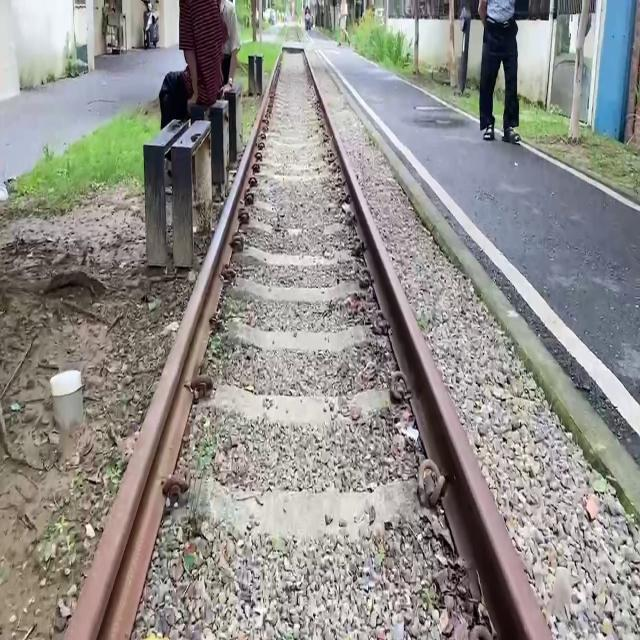rail-track: (132, 52, 490, 640)
